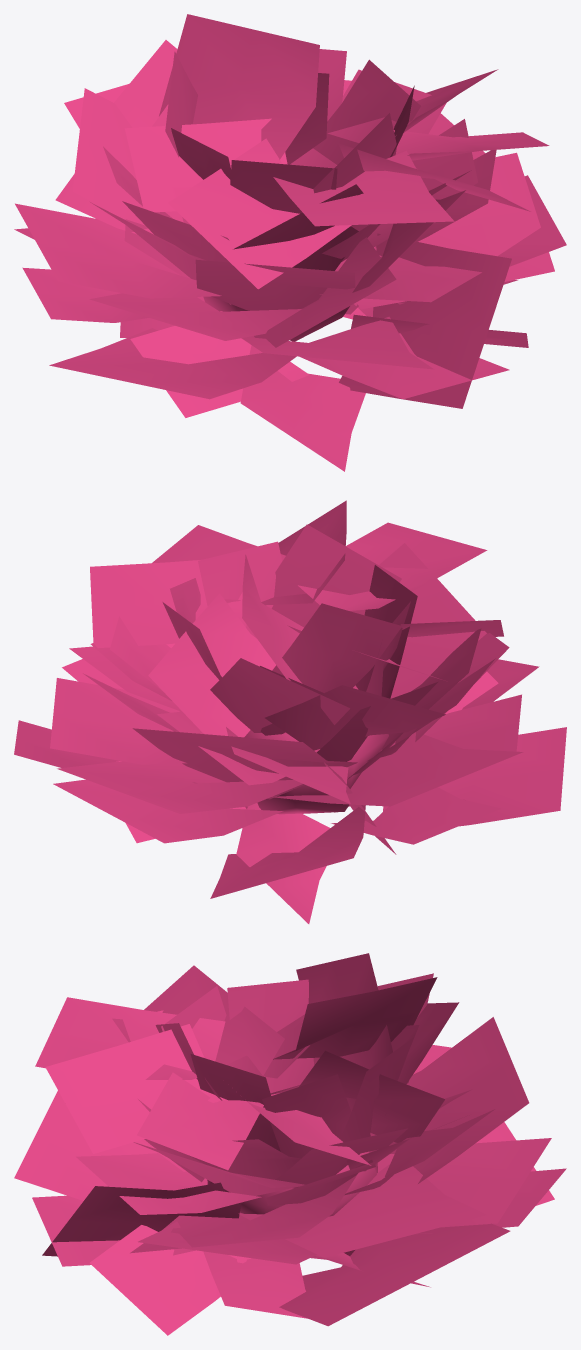
Rendered from BushLOD_1.fbx.
The picture shows the model from 3 angles, top to bottom: view 1: azimuth 30°, elevation 25°; view 2: azimuth 150°, elevation 25°; view 3: azimuth 270°, elevation 25°; orthographic projection. The views are drawn at different scales.
Visible parts, largest first — view 1: bushLOD_1_foliage; view 2: bushLOD_1_foliage; view 3: bushLOD_1_foliage.
Boxes of the visible parts, x1,y1,x2,y2 form: bushLOD_1_foliage: (14, 14, 566, 471); bushLOD_1_foliage: (14, 500, 566, 923); bushLOD_1_foliage: (14, 953, 566, 1335).
Size of the model in its own units: 2.03 by 1.22 by 1.91.
